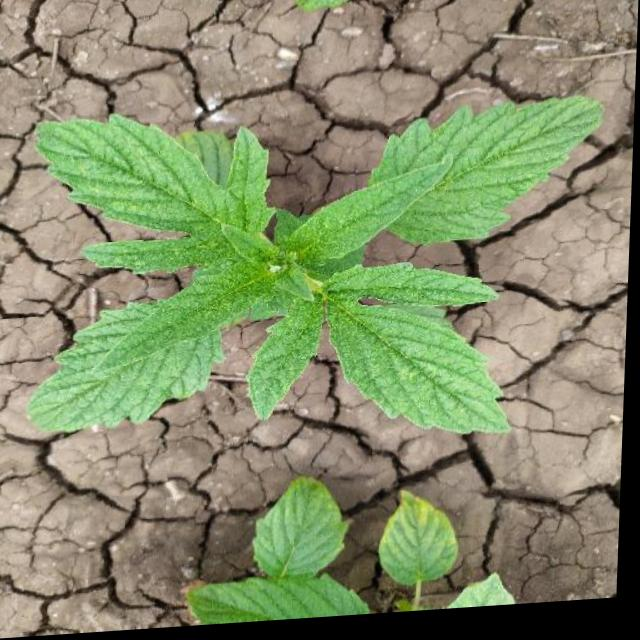crop: (10, 78, 609, 471)
